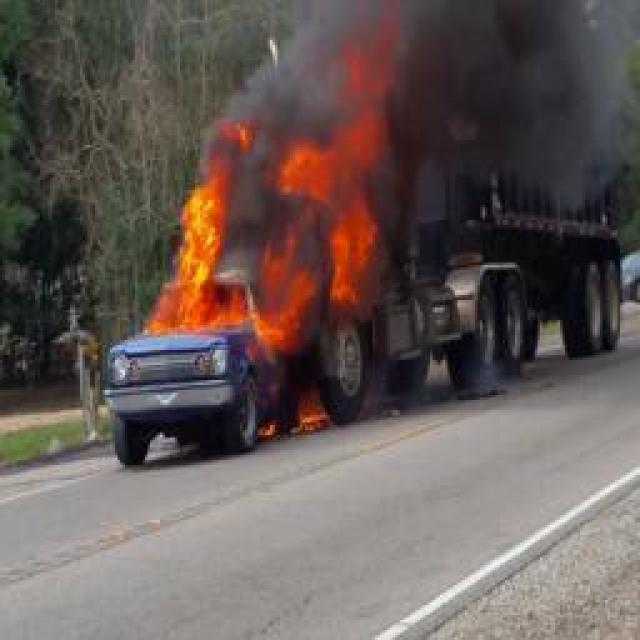Fire: (130, 0, 404, 441)
Smoke: (395, 0, 624, 214)
